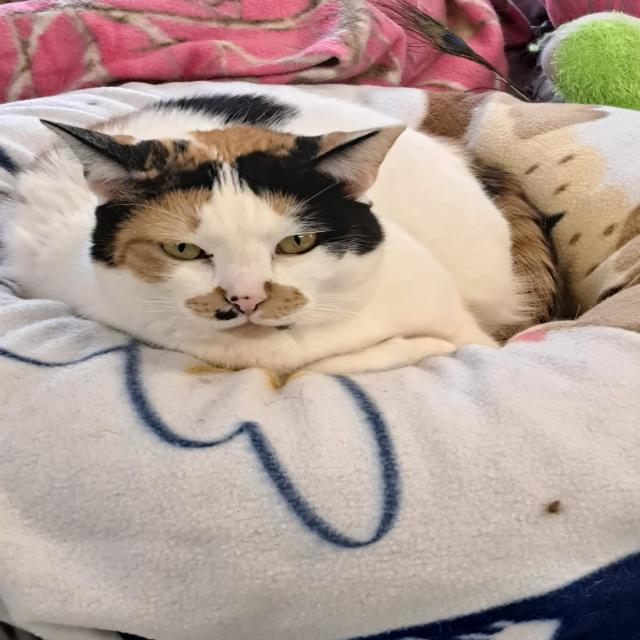calico_cat: (29, 109, 415, 362)
